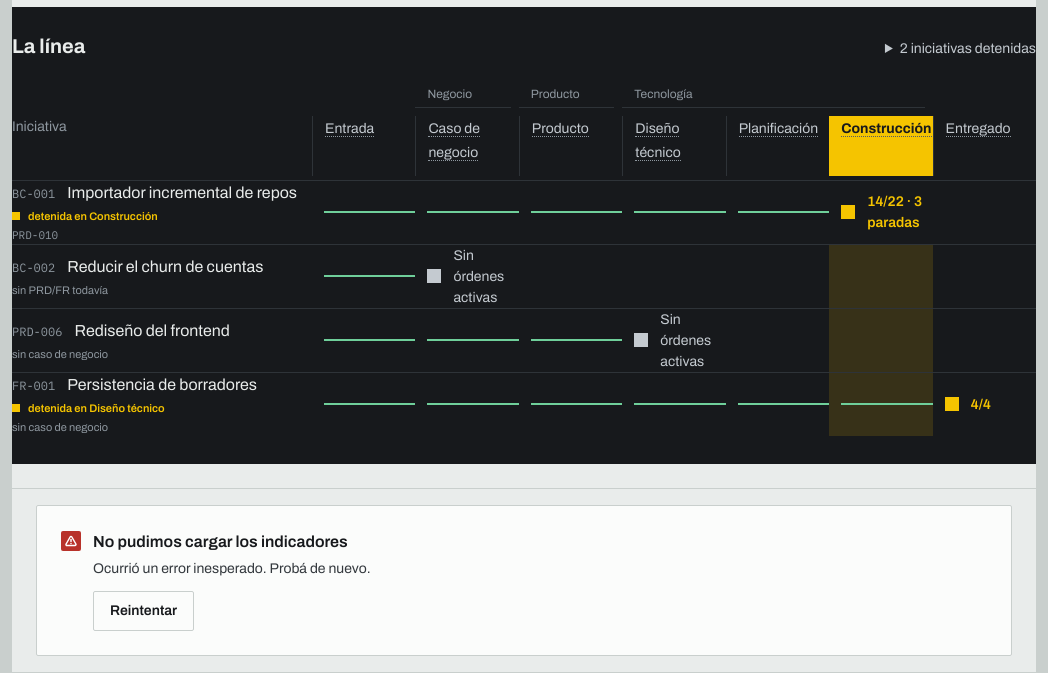
Test: Planta › indicadores acotados (SDD-085 D1-D4) › el reintento del strip vuelve a pedir las métricas y las muestra (SDD-085 D2)
(page scrolled)
What coordinates should you click on to do the following:
click the button "Reintentar"
I would click on:
 (144, 611)
Its box is [93,591,194,631].
(page scrolled)
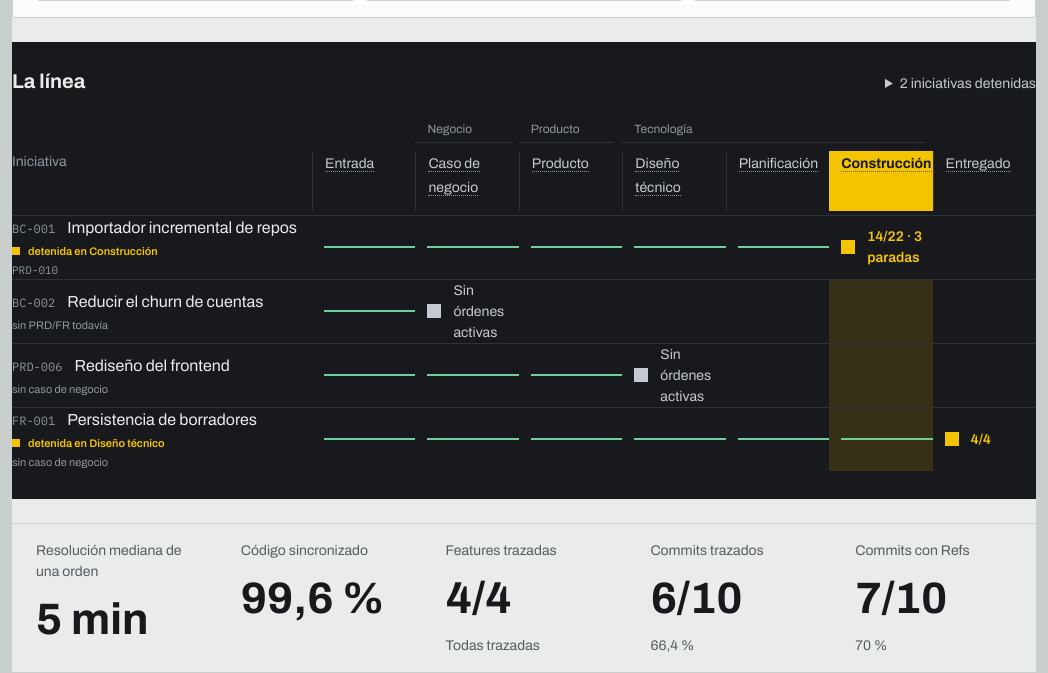
Expected: the text "99,6 %" is shown, [241,565,398,631]
